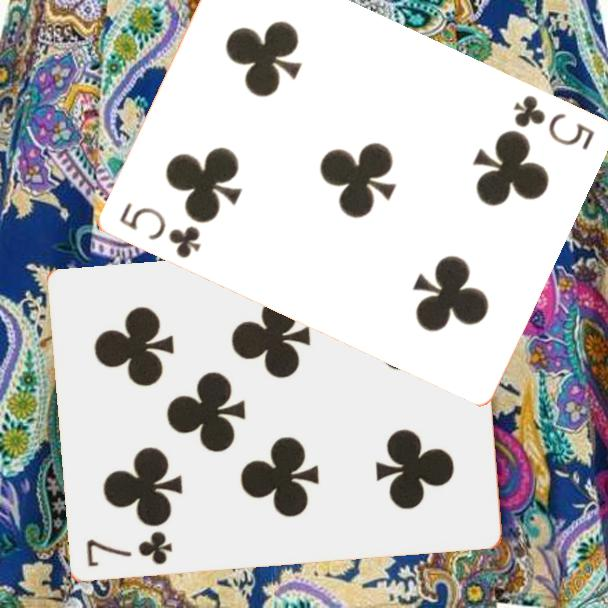c05: (115, 199, 203, 262), (509, 91, 597, 154)
c07: (82, 528, 175, 570)
